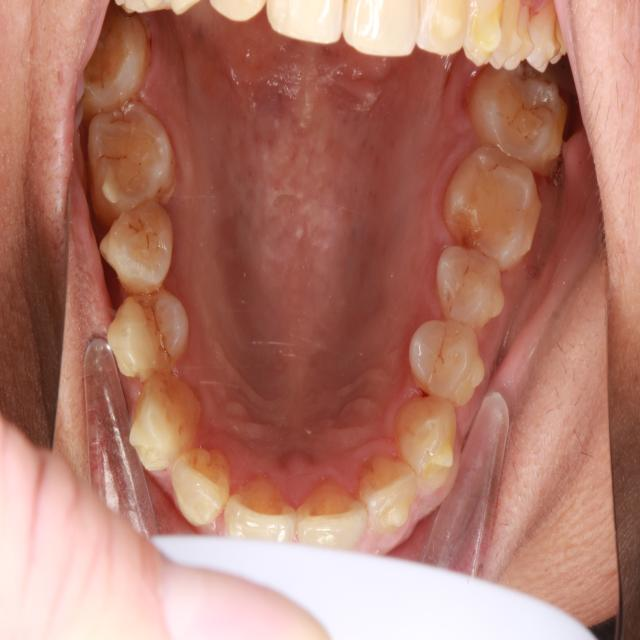tooth: (464, 58, 574, 185), (442, 142, 541, 273), (81, 99, 185, 218), (103, 271, 200, 393), (91, 186, 193, 298), (397, 302, 496, 416), (72, 4, 161, 122), (391, 385, 470, 506), (127, 366, 207, 482), (427, 235, 507, 333), (292, 465, 375, 558), (168, 433, 237, 533), (352, 440, 421, 535), (224, 464, 302, 548)
